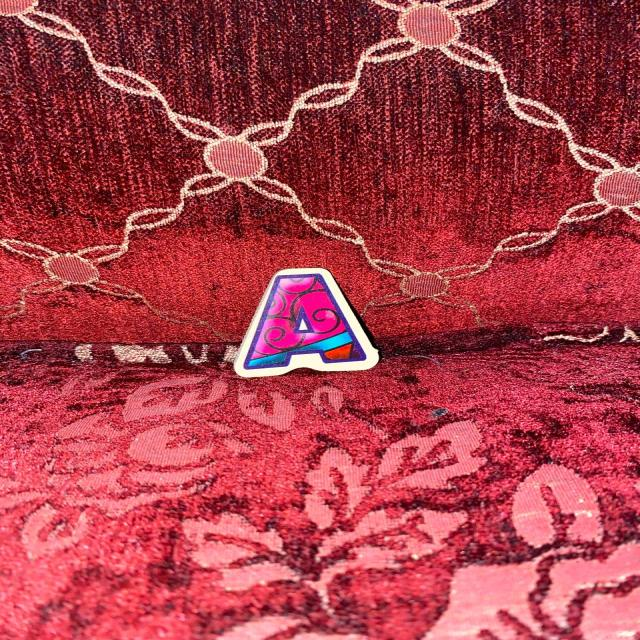A: (235, 267, 379, 377)
